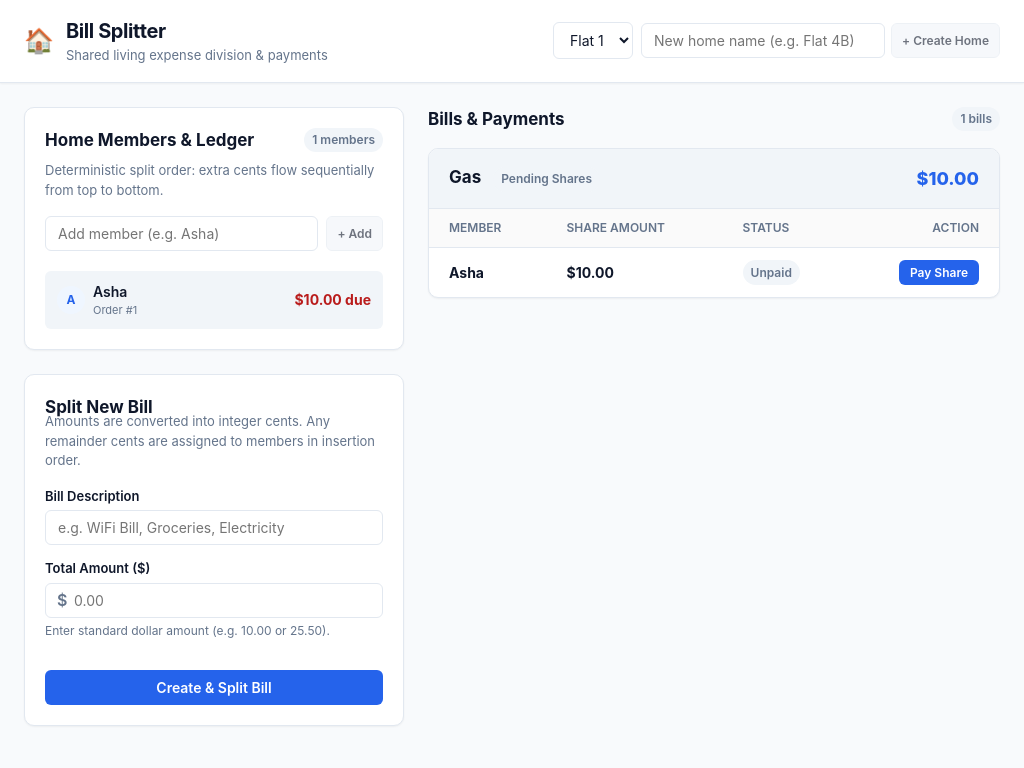
Dashboard Component - Genuine React DOM Interactions › 11. Reuses identical idempotency key on network failure retry
Expected: the heading "Gas" is shown, [449, 165, 481, 191]
Click the button "Pay Share" at (939, 272), box [899, 260, 979, 285]
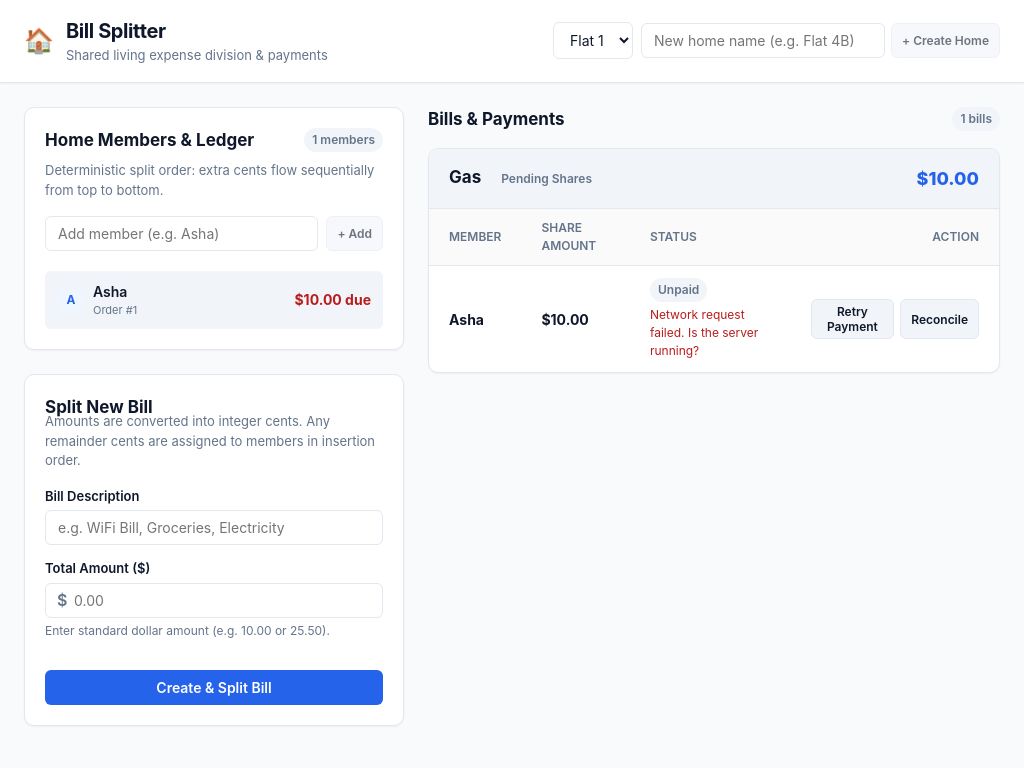
Expected: the button "Retry Payment" is shown
Note: Click retry
Click the button "Retry Payment" at (852, 319), box [811, 299, 894, 339]
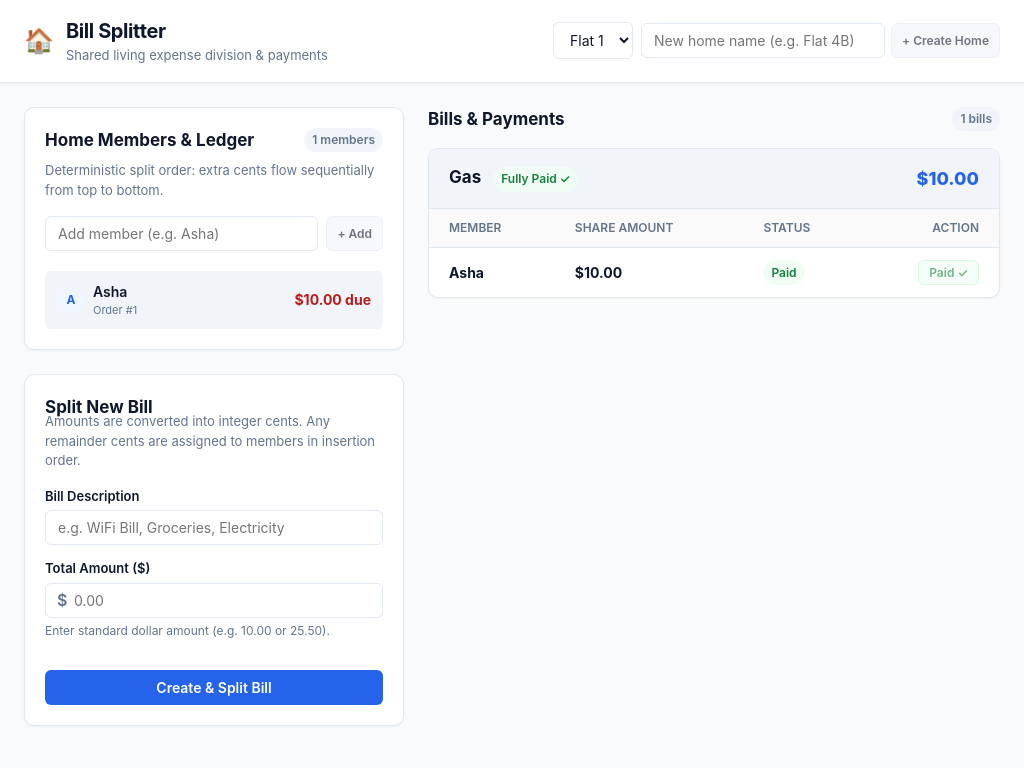
Expected: the button "Paid ✓" is shown, [918, 260, 979, 285]
